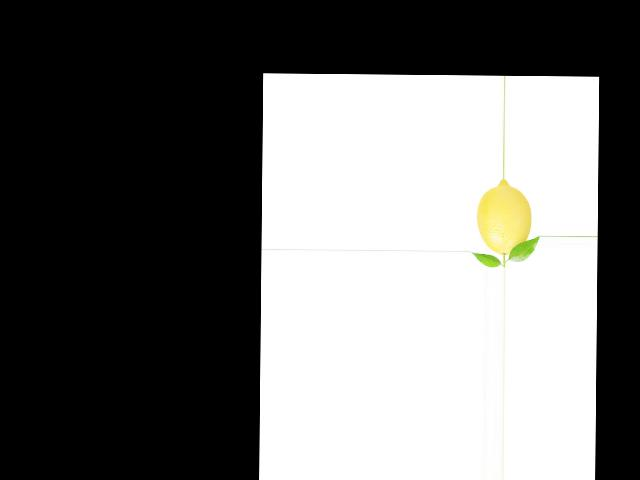lemon: (474, 180, 535, 262)
